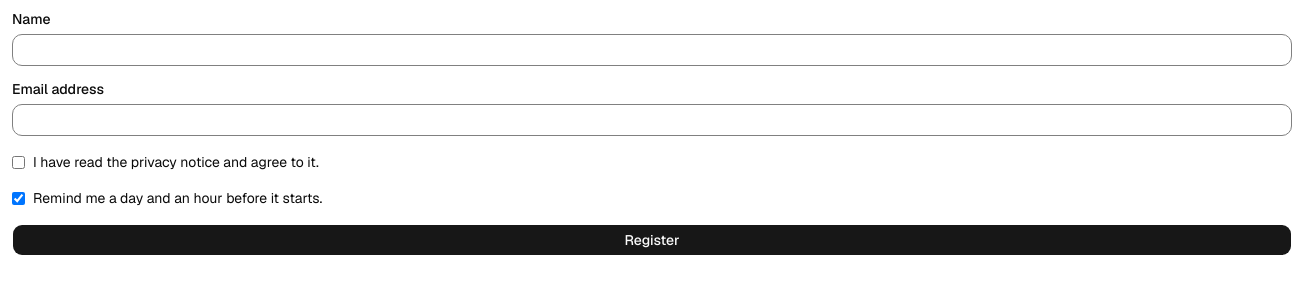
RegistrationForm (FR-AD-3, FR-AD-6) › asks for consent before sending anything
Type "Ada Lovelace" into the field labelled "Name".
click(652, 50); type("Ada Lovelace")  # box [12,34,1292,66]
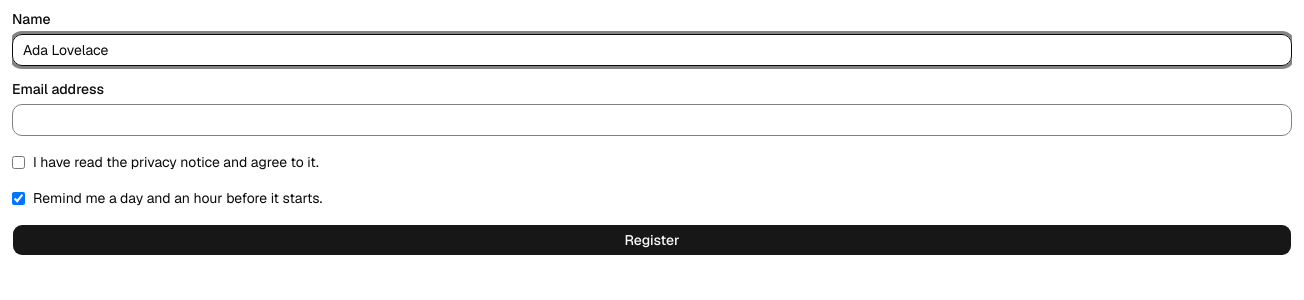
Type "ada@example.com" into the field labelled "Email address".
click(652, 120); type("ada@example.com")  # box [12,104,1292,136]
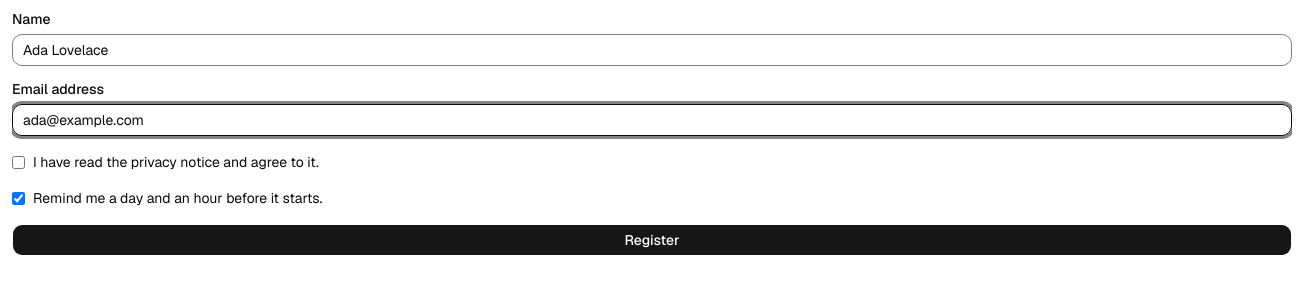
Click the button "Register".
click(652, 240)  # box [12,224,1292,256]
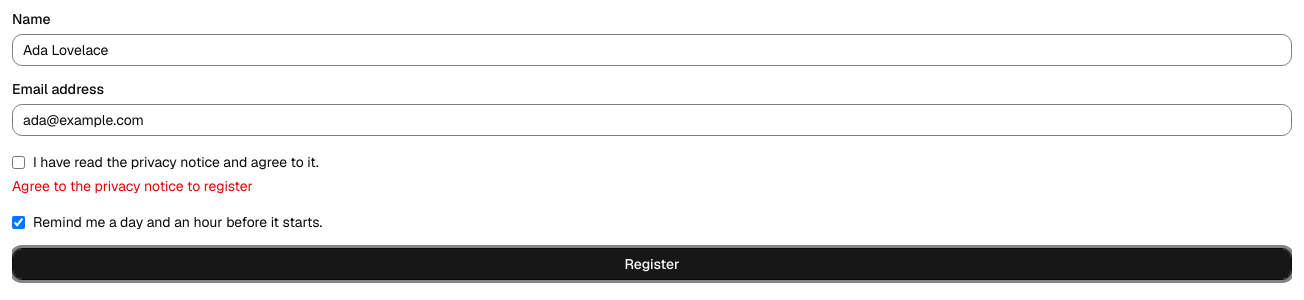
Now the text "Agree to the privacy notice to register" is shown, box [12,177,253,195]
